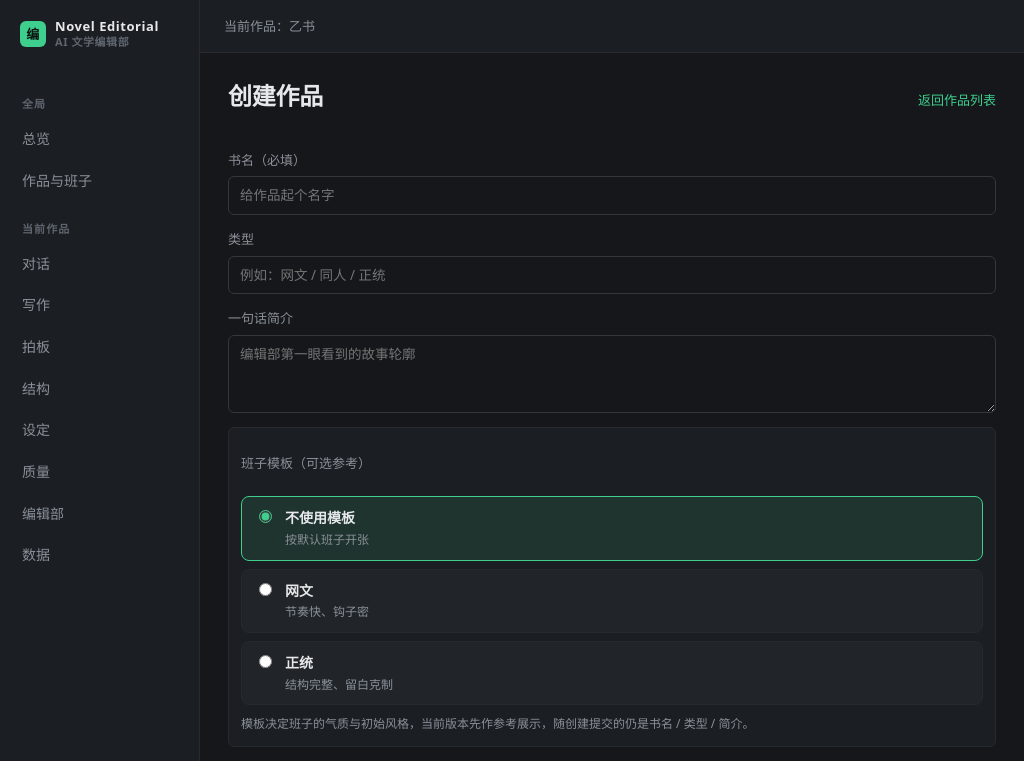
Test case: works create page › keeps the form and shows an inline error when creation fails
Expected: the text "网文" is shown, [285,581,313,600]
Type "乙书" into the field with test id "works-title-input" at x=612, y=196, box [228,176,996,215]
(page scrolled)
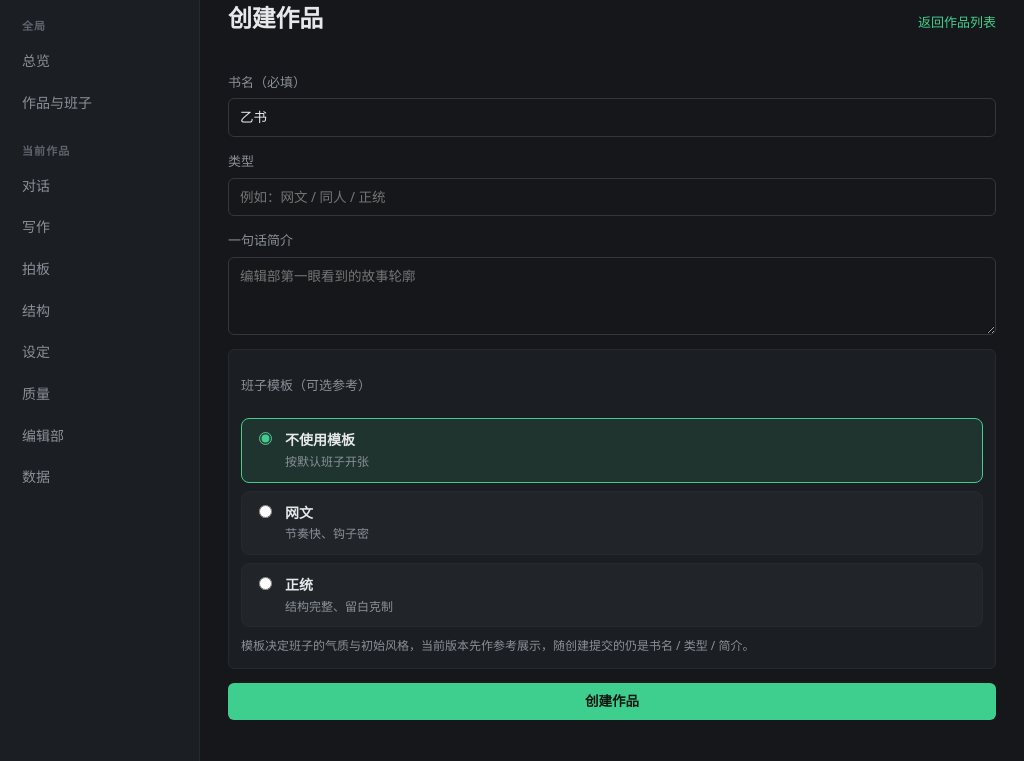
Click the button with test id "works-submit-button" at x=612, y=701, box [228,683,996,720]
(page scrolled)
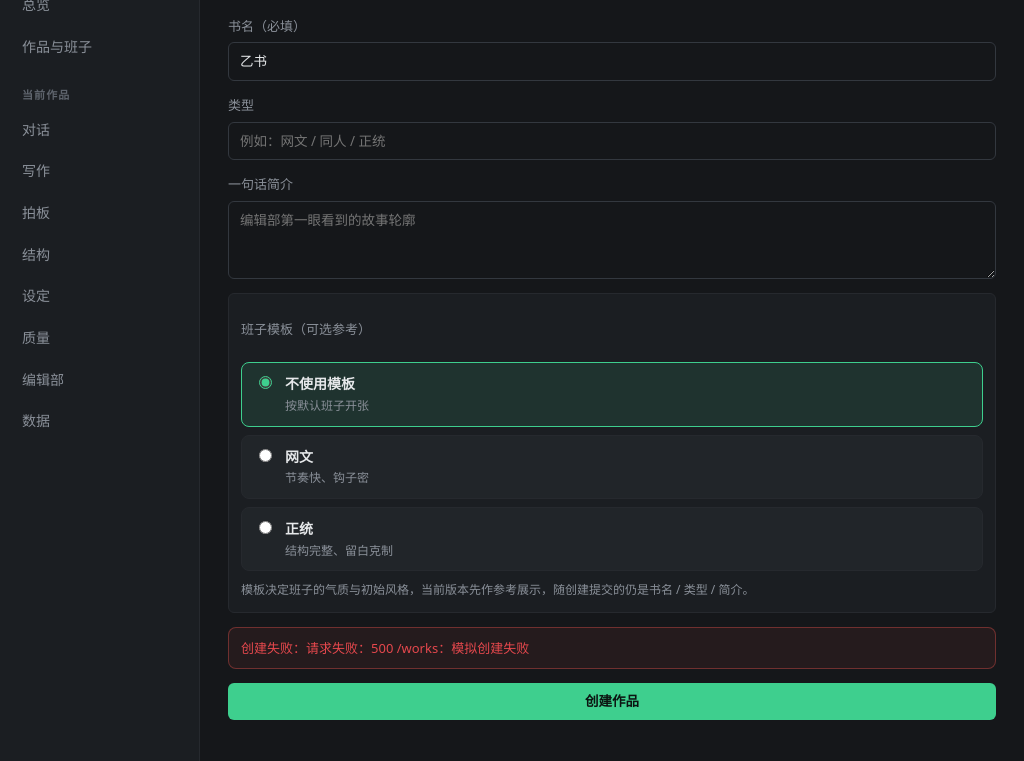
Expected: the button with test id "works-submit-button" is enabled, [228,683,996,720]
Expected: the message with test id "works-create-error" shows "模拟创建失败", [306,639,529,657]
